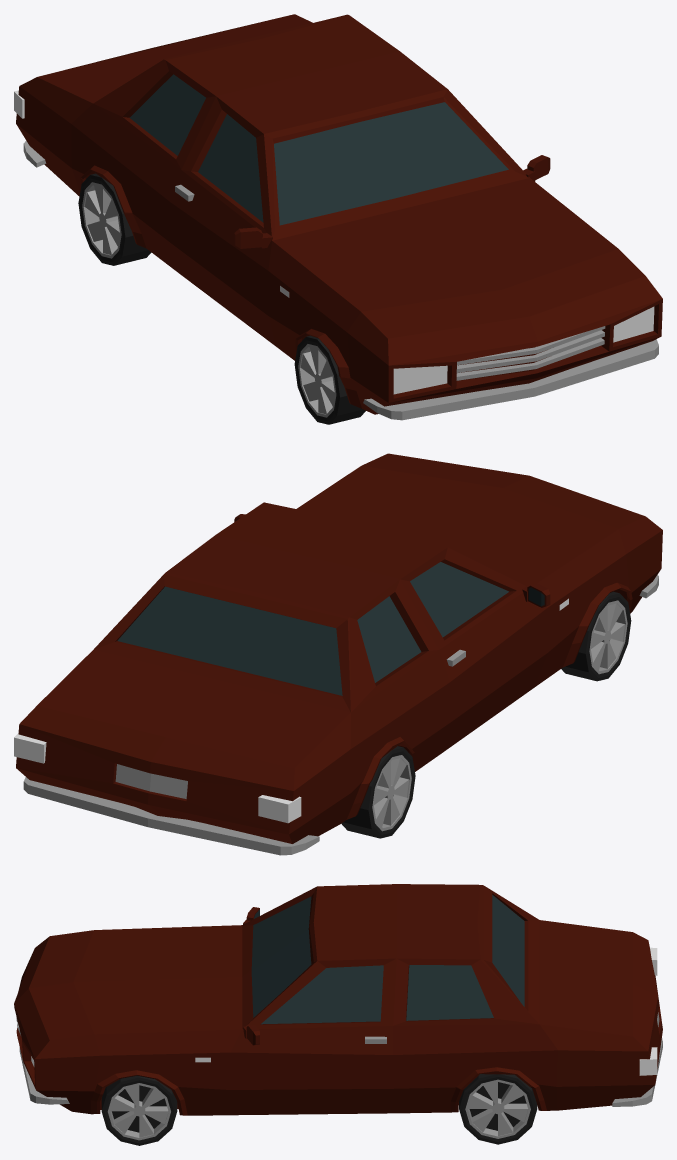
Rendered from car_coupe.fbx.
The picture shows the model from 3 angles, top to bottom: view 1: azimuth 30°, elevation 25°; view 2: azimuth 150°, elevation 25°; view 3: azimuth 270°, elevation 25°; orthographic projection. The views are drawn at different scales.
Parts seen in each view (by area): view 1: Cube, right_rear_wheel, right_front_wheel; view 2: Cube, right_rear_wheel, right_front_wheel; view 3: Cube, left_rear_wheel, left_front_wheel.
Part boxes in pixels (box(x1,y1,x2,y2)): Cube: box(14, 14, 662, 420); right_rear_wheel: box(78, 173, 151, 265); right_front_wheel: box(294, 335, 365, 424); Cube: box(14, 453, 662, 855); right_rear_wheel: box(341, 746, 415, 838); right_front_wheel: box(561, 591, 631, 681); Cube: box(14, 884, 662, 1115); left_rear_wheel: box(459, 1074, 537, 1144); left_front_wheel: box(101, 1075, 177, 1145).
Size of the model in its own units: 208 by 126 by 446.
